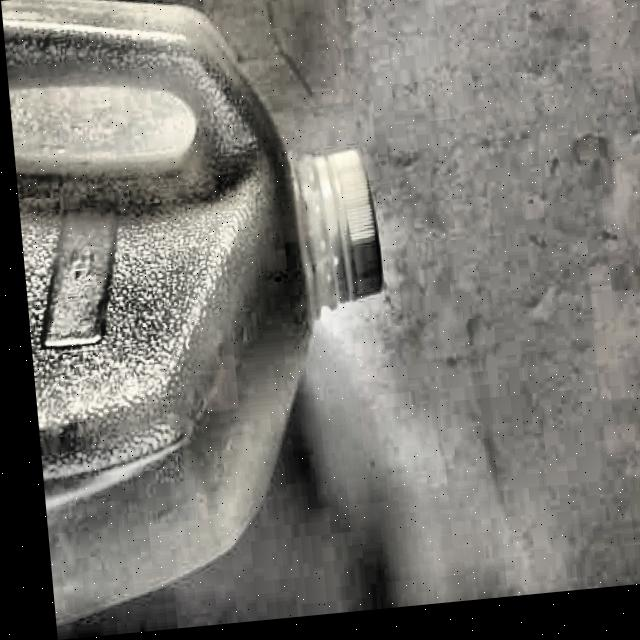plastic: (0, 0, 415, 640)
